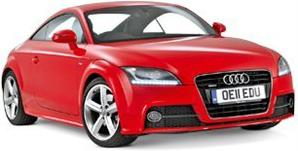front_view: (120, 53, 294, 135)
headlight: (117, 61, 184, 90)
side_glass: (31, 15, 89, 45)
